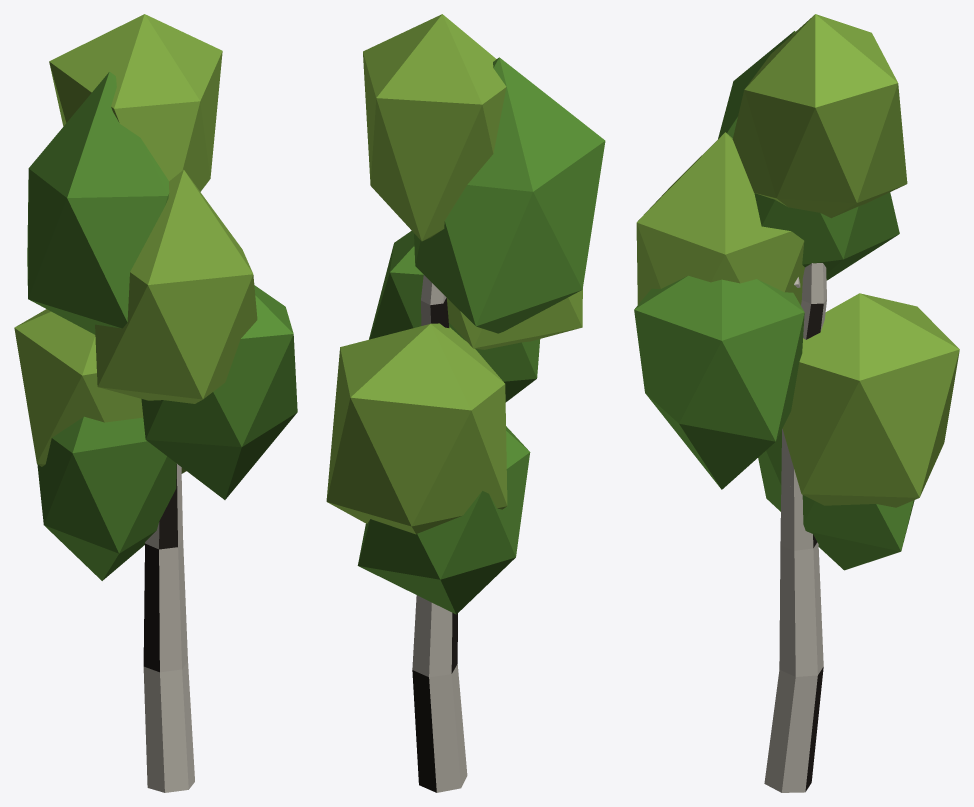
The model's file is Tree_Birch_A.glb.
3 views of the same model, side by side, from view 1: azimuth 30°, elevation 25°; view 2: azimuth 150°, elevation 25°; view 3: azimuth 270°, elevation 25° (orthographic). The views are drawn at different scales.
Parts seen in each view (by area): view 1: Tree_Birch_A; view 2: Tree_Birch_A; view 3: Tree_Birch_A.
Part boxes in pixels (x1,y1,x2,y2): Tree_Birch_A: [14, 14, 297, 792]; Tree_Birch_A: [326, 14, 605, 792]; Tree_Birch_A: [634, 14, 959, 792].
Size of the model in its own units: 1.58 by 5.14 by 1.98.
